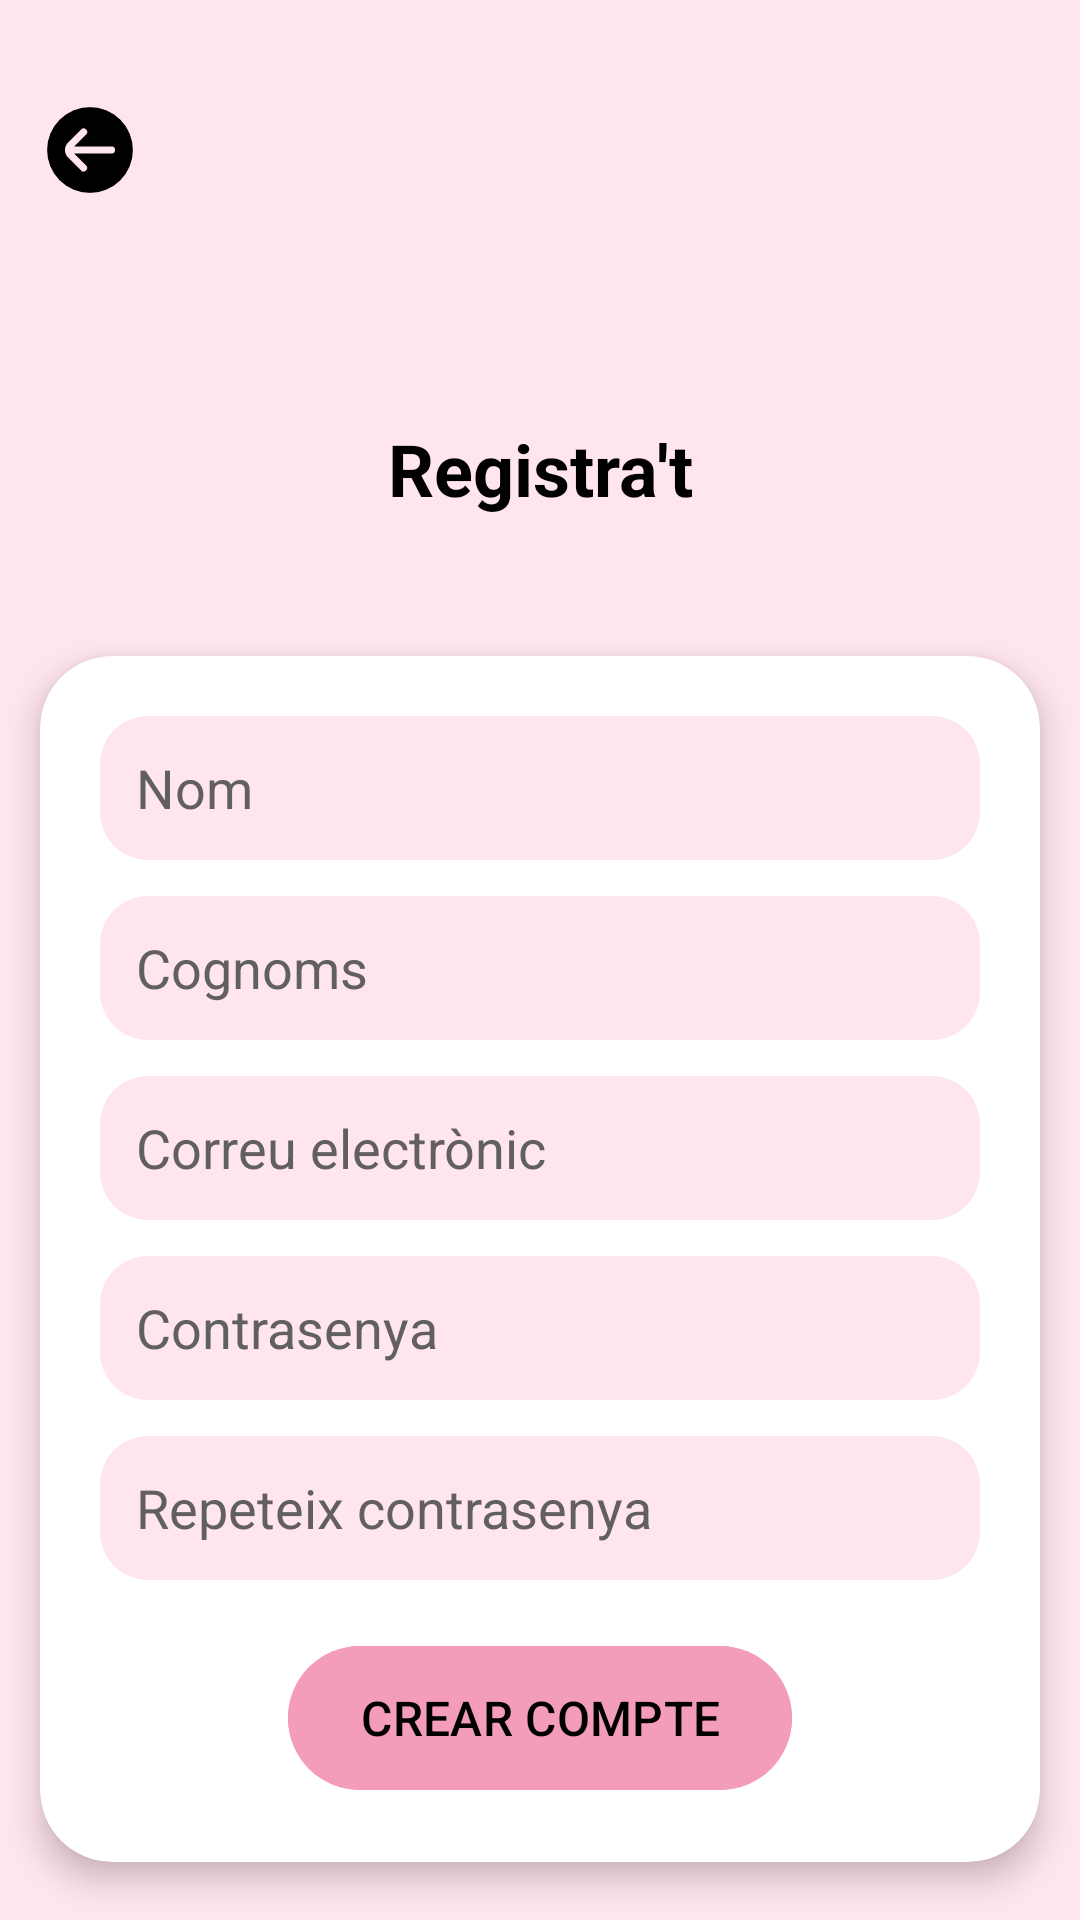

Where icons sit on this 1080px×1920px app screen, as detection(x1, y1, x2, y2):
draw volver: detection(47, 107, 133, 193)
